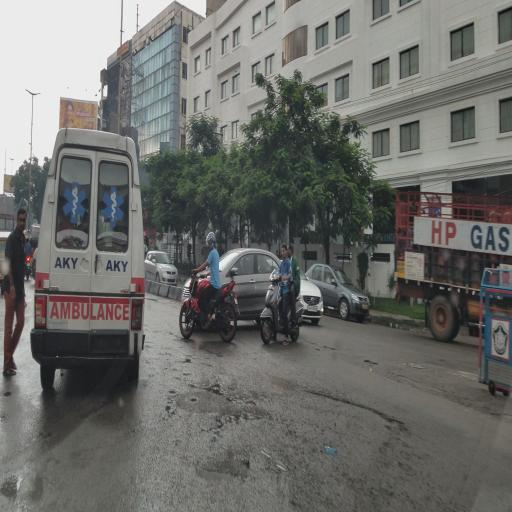street_light_0: (22, 83, 33, 105), (33, 85, 43, 107)
